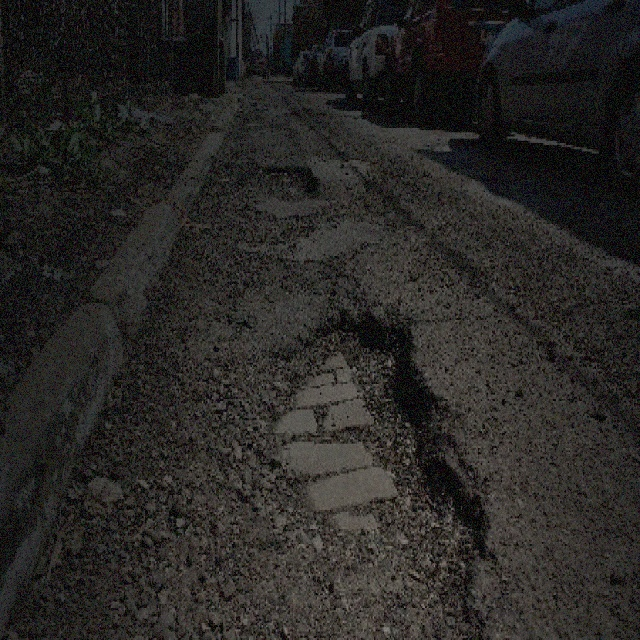pothole: (248, 311, 499, 636), (256, 158, 321, 203)
